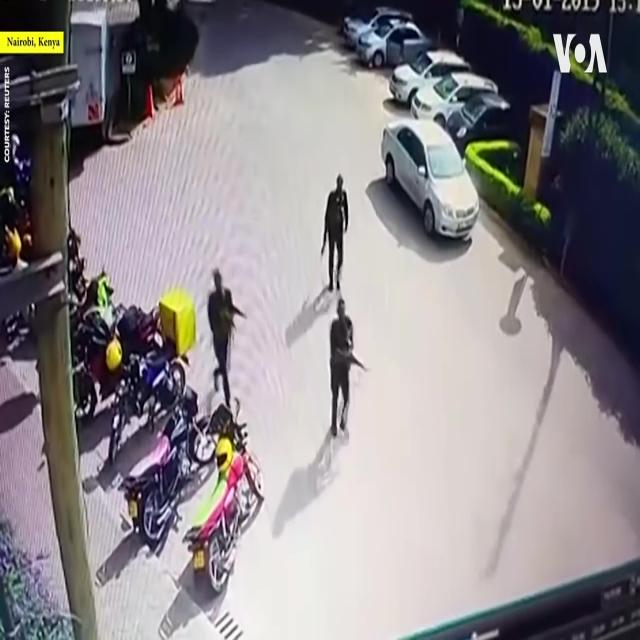Weapon: (217, 291, 254, 338), (337, 346, 378, 386), (316, 215, 337, 251)
